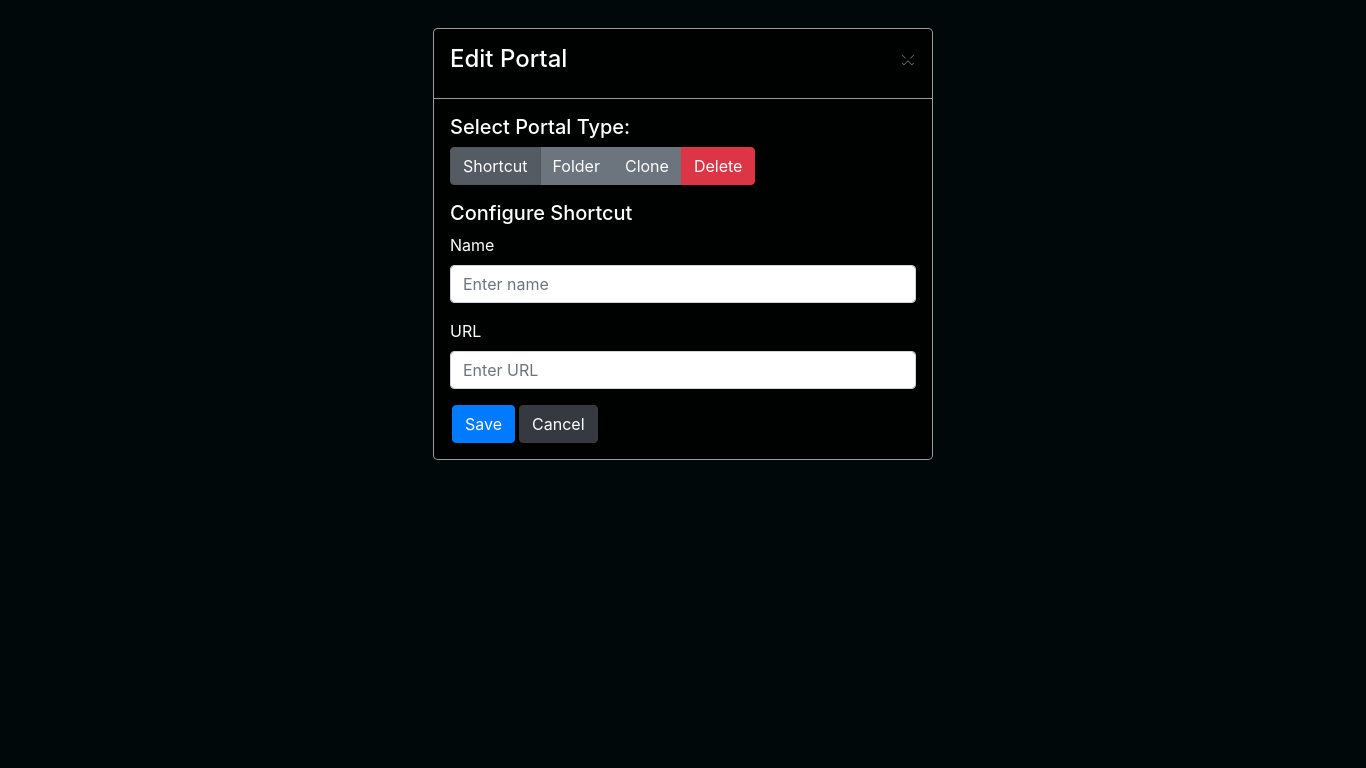
Scenario: should render form clone button on clone tab button click
The image size is (1366, 768).
Click the text "Clone" at (647, 166), box [612,147,682,185]
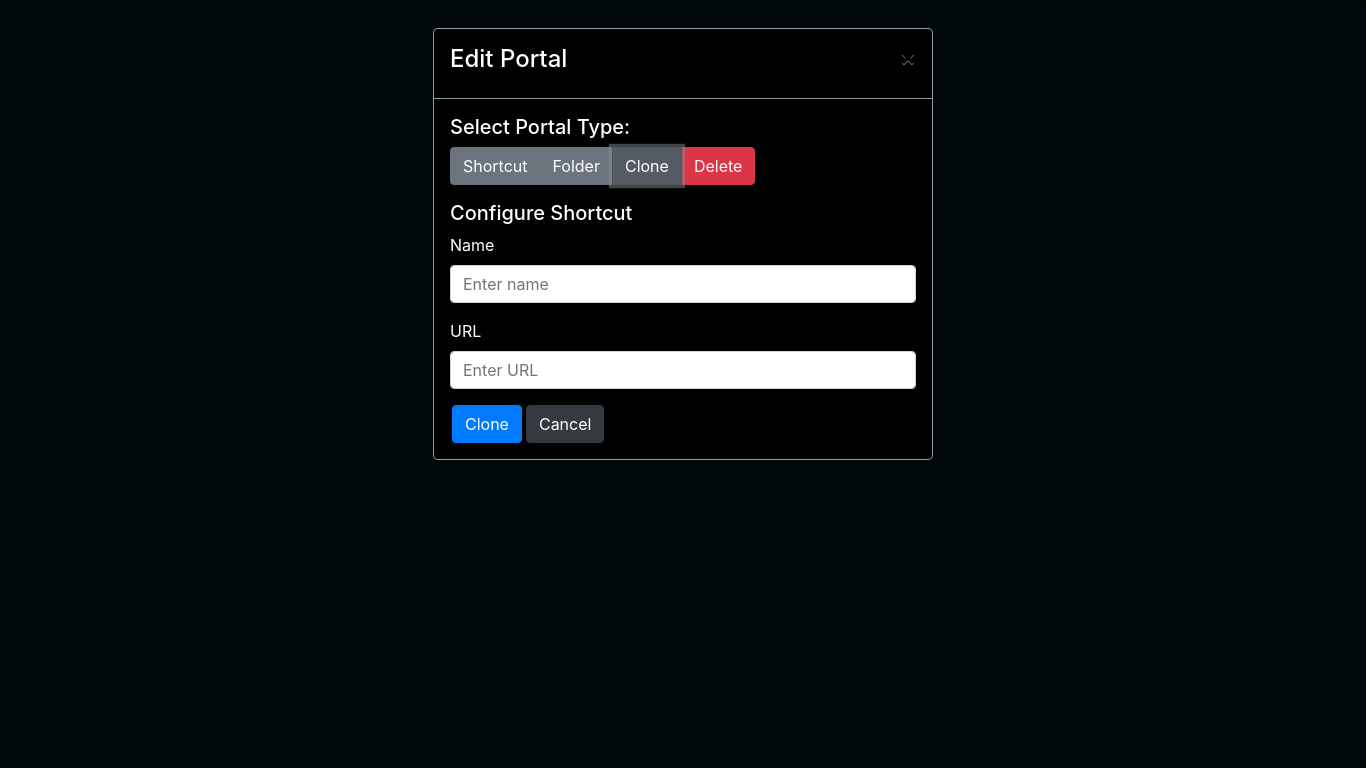
Expected: the text "Clone" is shown 2 times, [612,147,682,185]; [452,405,522,443]
